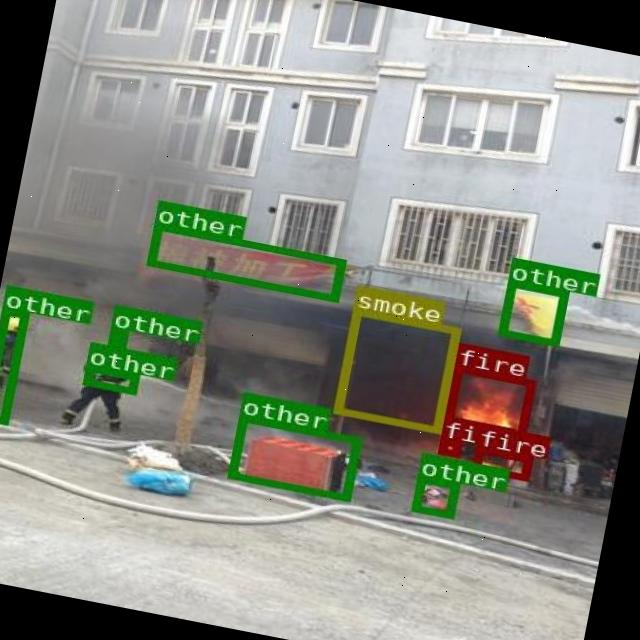fire: (442, 363, 534, 442), (470, 445, 531, 479), (436, 437, 459, 457)
smoke: (332, 306, 460, 433)
